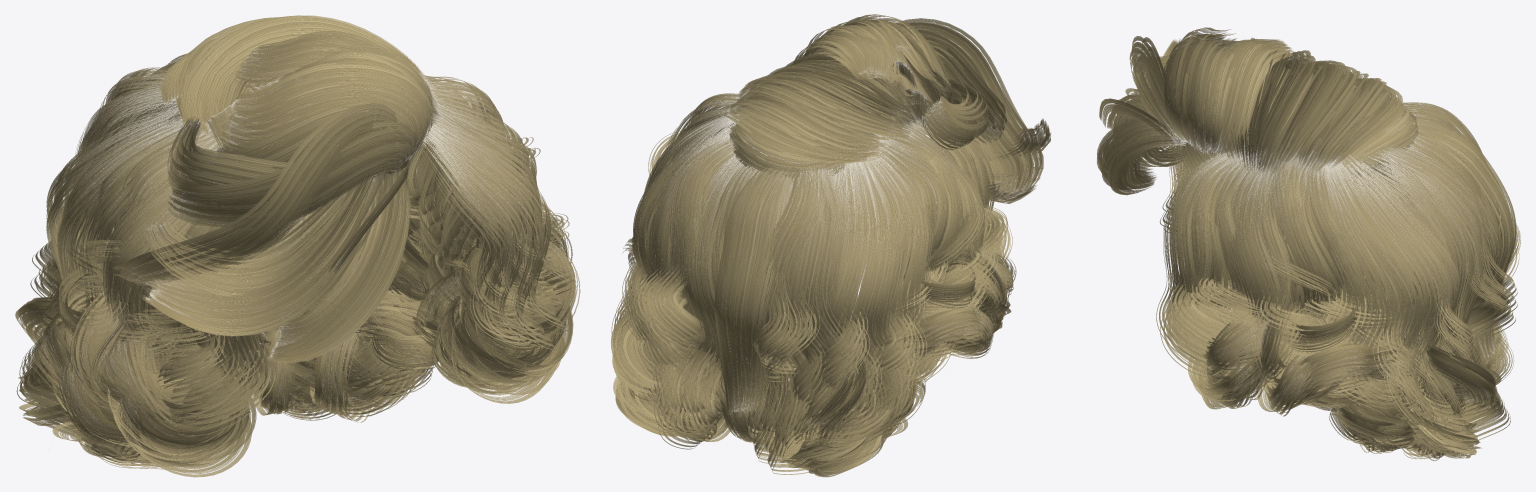
Rendered from marilyn_monroe-transformed.glb.
The picture shows the model from 3 angles, left to right: view 1: azimuth 30°, elevation 25°; view 2: azimuth 150°, elevation 25°; view 3: azimuth 270°, elevation 25°; orthographic projection. The views are drawn at different scales.
Visible parts, largest first — view 1: hair_monroe; view 2: hair_monroe; view 3: hair_monroe.
Boxes of the visible parts, x1,y1,x2,y2 form: hair_monroe: (15,15,580,477); hair_monroe: (611,14,1050,477); hair_monroe: (1097,27,1520,460).
Size of the model in its own units: 29.96 by 27.31 by 27.64.
1 material, 1 textured.
